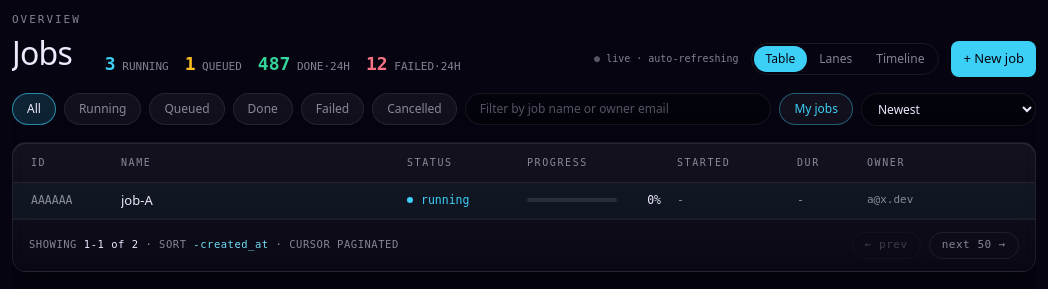
paginates forward and back via the cursor stack
The width and height of the screenshot is (1048, 289).
Expected: the link "job-A" is shown, [121,190,153,210]
Expected: the button "← prev" is disabled, [852,232,921,258]
Click the button "next 50 →": point(974, 245) [929,232,1019,258]
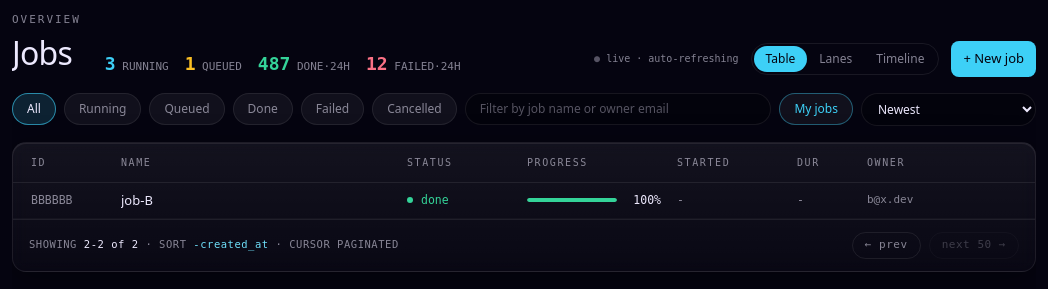
Expected: the link "job-B" is shown, [121,190,153,210]
Expected: the button "next 50 →" is disabled, [929,232,1019,258]
Expected: the button "← prev" is enabled
// Back to page 1.
Click the button "← prev": point(886, 245) [852,232,921,258]
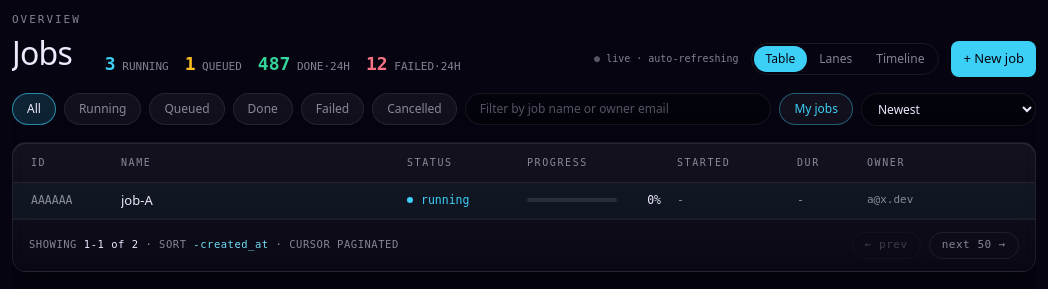
Expected: the link "job-A" is shown, [121,190,153,210]
Expected: the button "← prev" is disabled, [852,232,921,258]
